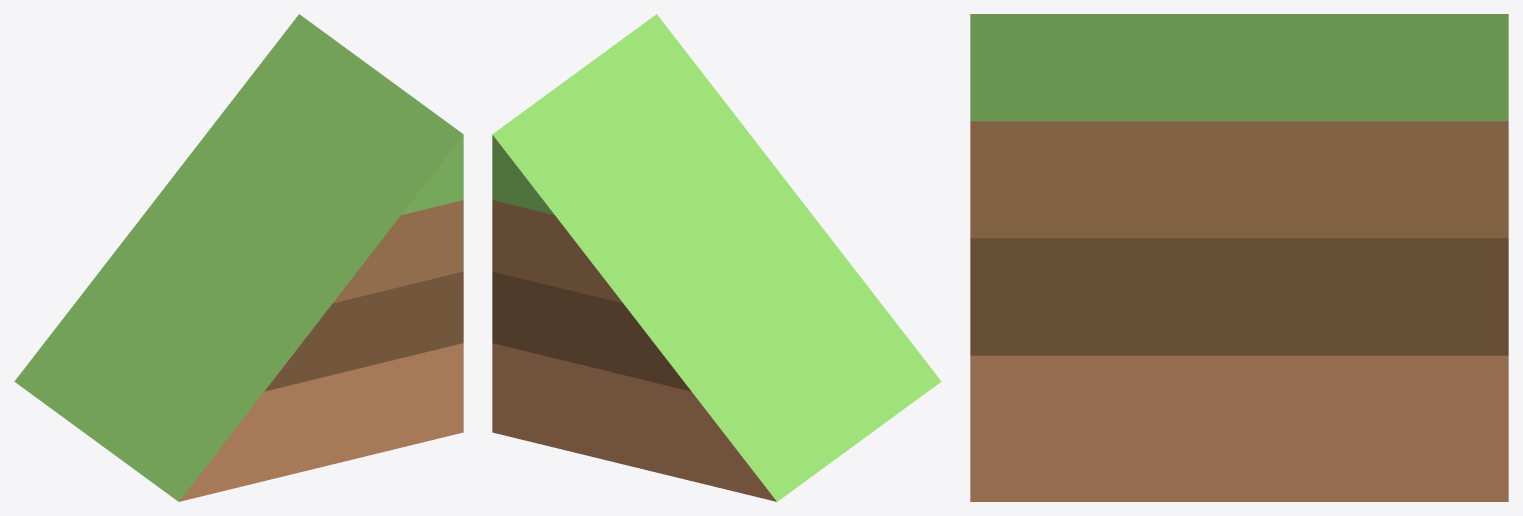
Rendered from Grass_Slope.glb.
3 views of the same model, side by side, from view 1: azimuth 30°, elevation 25°; view 2: azimuth 150°, elevation 25°; view 3: azimuth 270°, elevation 25° (orthographic). The views are drawn at different scales.
Visible parts, largest first — view 1: Grass_Slope_body; view 2: Grass_Slope_body; view 3: Grass_Slope_body.
Part boxes in pixels (bbox=[...]): Grass_Slope_body: bbox=[14, 14, 463, 501]; Grass_Slope_body: bbox=[492, 14, 941, 501]; Grass_Slope_body: bbox=[970, 14, 1508, 501].
Size of the model in its own units: 1 by 1 by 1.
